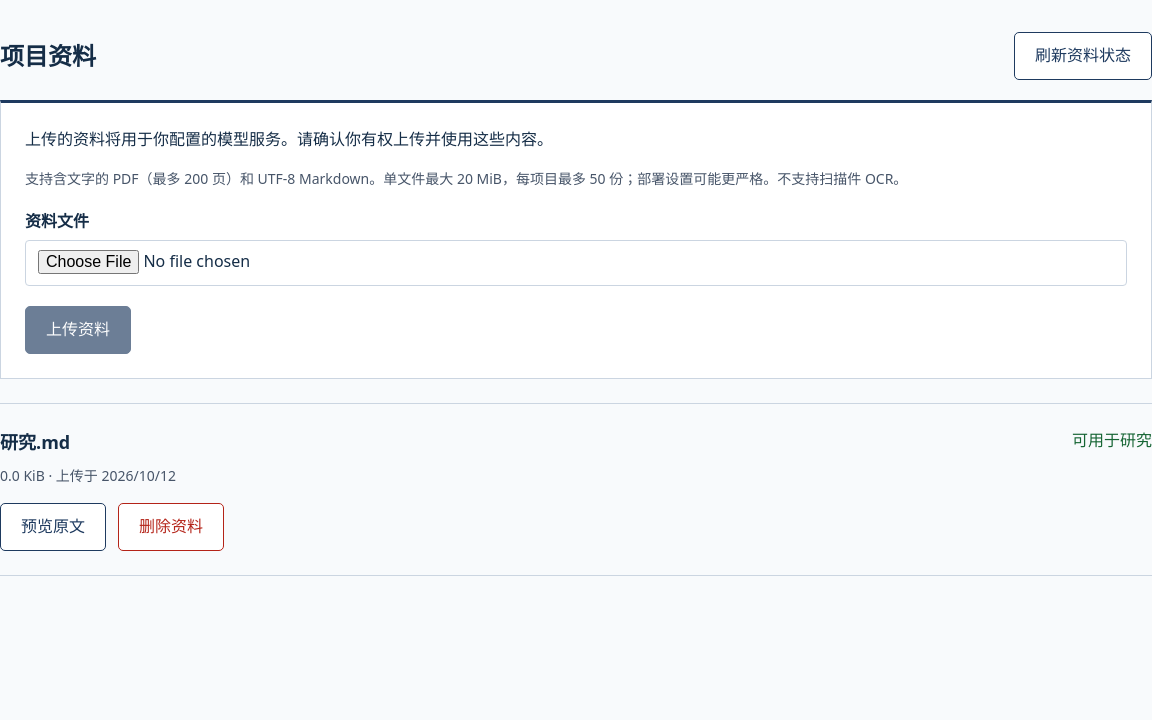
Test: cancels deletion without sending a mutation
Click the button "删除资料": coordinates (171, 527) [118, 503, 224, 551]
(page scrolled)
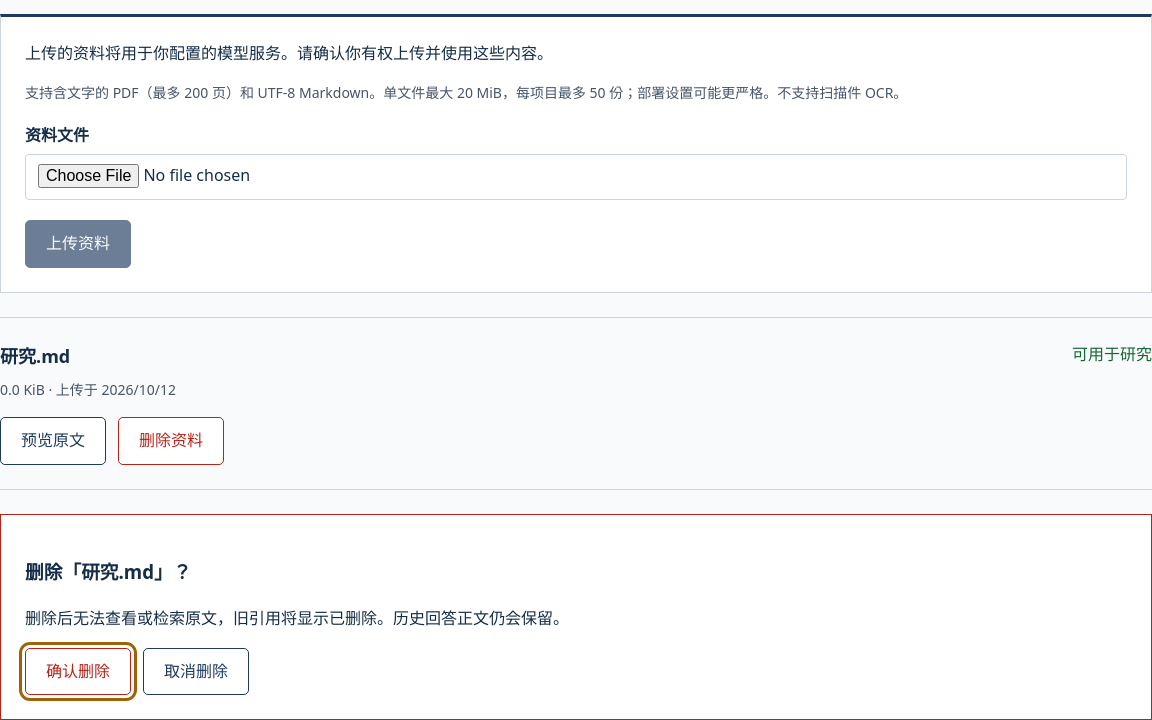
Click the button "取消删除": coordinates (196, 671) [143, 648, 249, 695]
(page scrolled)
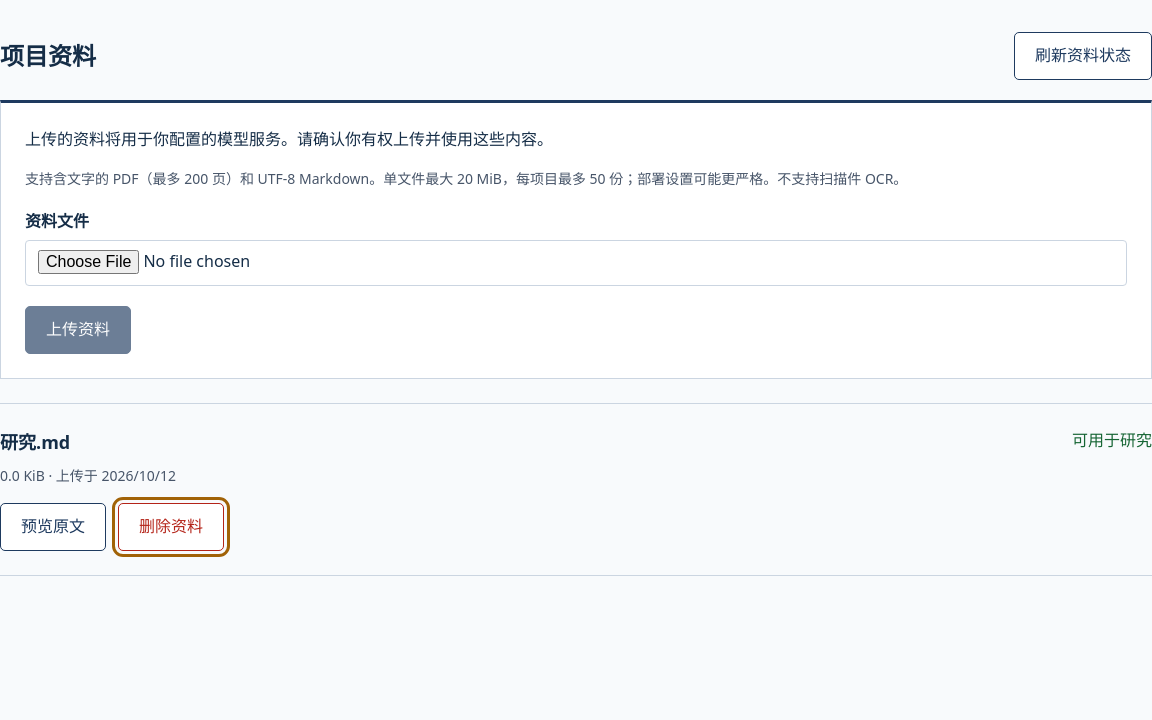
Expected: the button "确认删除" is gone
